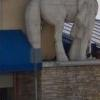Statue: (19, 3, 100, 64)
